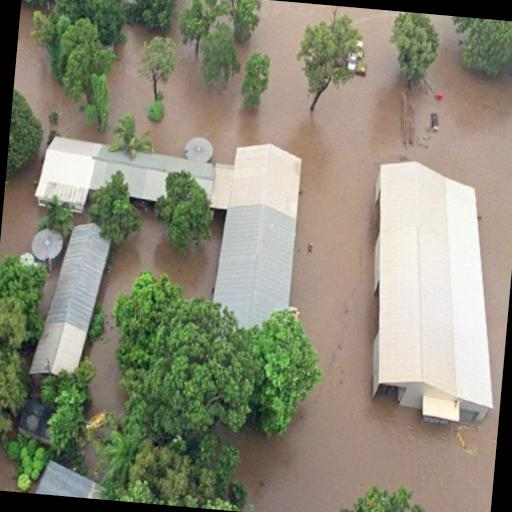flood: (108, 0, 512, 512), (371, 159, 498, 430), (14, 5, 111, 155), (97, 203, 223, 313), (0, 156, 41, 259), (87, 320, 122, 414), (0, 450, 12, 491)
house: (350, 151, 512, 413), (208, 138, 304, 318), (30, 219, 110, 385), (34, 131, 106, 212), (18, 456, 112, 500)
